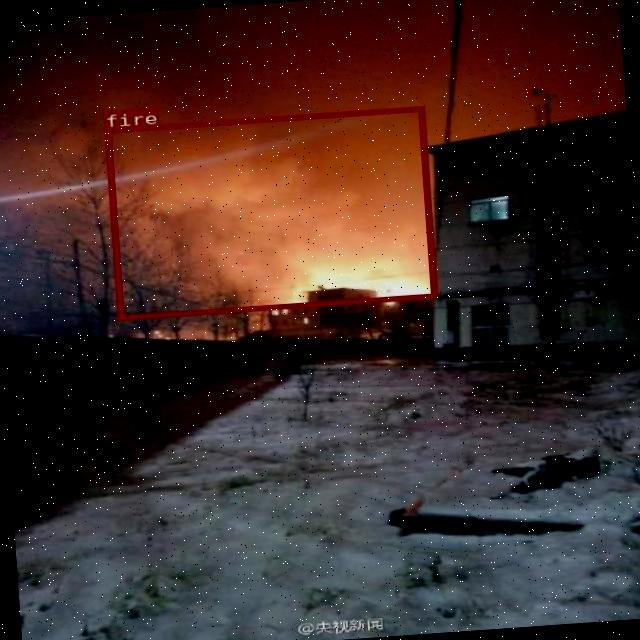fire: (103, 106, 436, 319)
